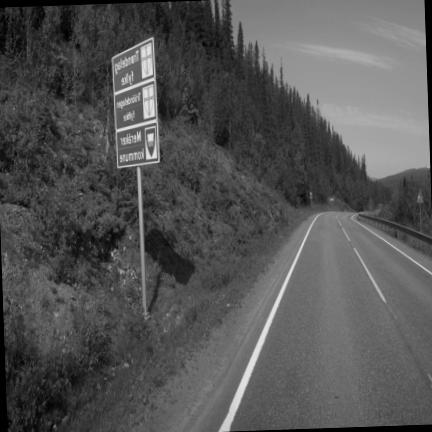Road: (196, 214, 431, 430)
